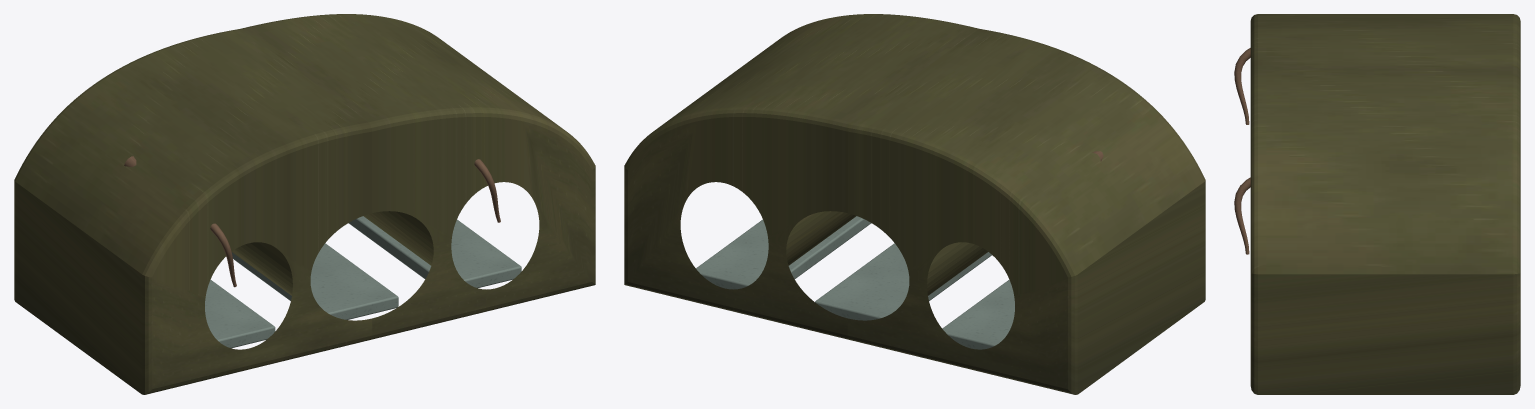
File: bellroot-fen-floodward-marches-silt-tunneller-burrow-b-88093dba__32929.glb
3 renders of one model, left to right at view 1: azimuth 30°, elevation 25°; view 2: azimuth 150°, elevation 25°; view 3: azimuth 270°, elevation 25°, orthographic.
Parts seen in each view (by area): view 1: silt-tunneller-burrow-bank; view 2: silt-tunneller-burrow-bank; view 3: silt-tunneller-burrow-bank.
Part boxes in pixels (<box>): silt-tunneller-burrow-bank: <box>14,14,595,394</box>; silt-tunneller-burrow-bank: <box>624,14,1205,394</box>; silt-tunneller-burrow-bank: <box>1234,14,1520,394</box>.
Bounding box in the file's own units: 3.6 × 1.66 × 1.96.
Materials: 3 (3 with a texture image).
